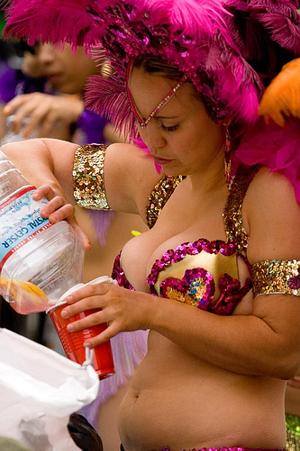person: (1, 3, 300, 449)
